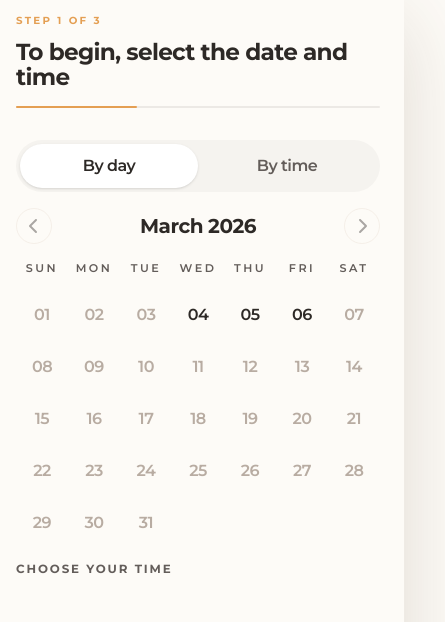
booking schedule search › en: plural and labels
Click the button "By time".
click(287, 166)  # box x1=198 y1=144 x2=376 y2=188
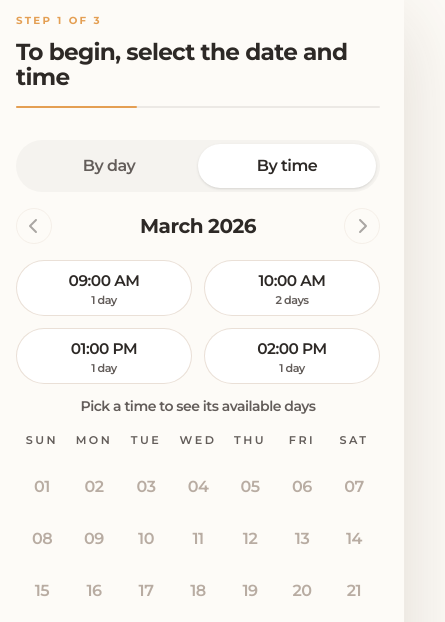
Expected: the text "2 days" is shown, x1=276 y1=292 x2=309 y2=308
Expected: the text "1 day" is shown 3 times, x1=91 y1=292 x2=117 y2=308; x1=91 y1=360 x2=117 y2=376; x1=279 y1=360 x2=305 y2=376
